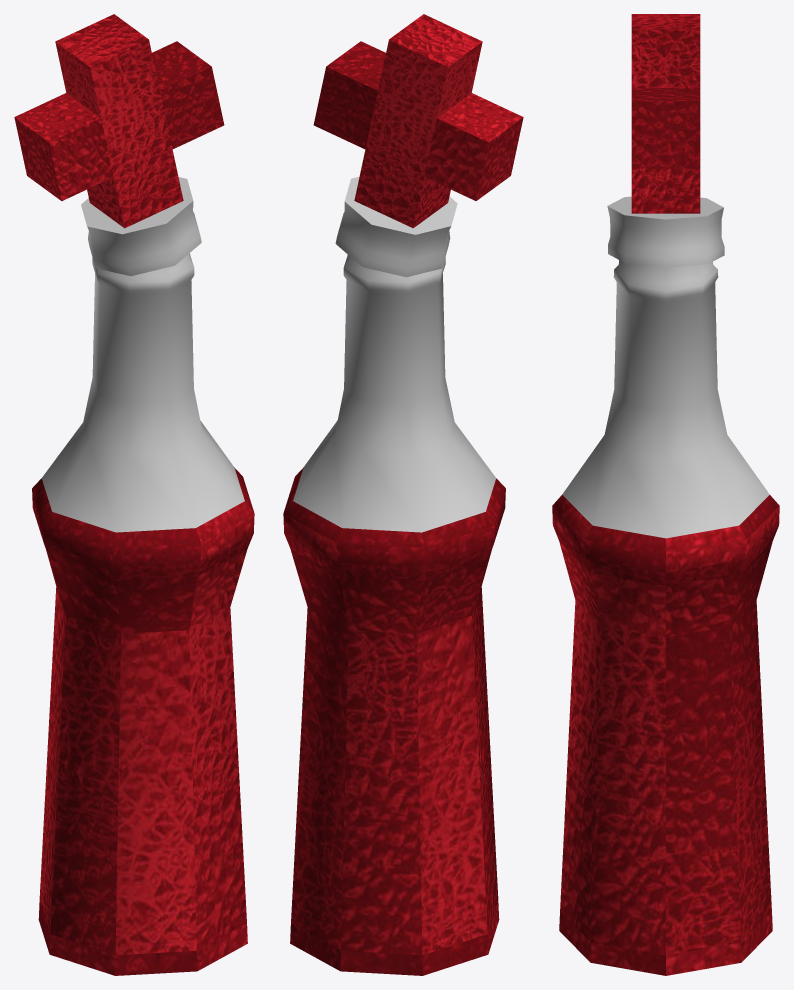
File: HealthBoost.obj
3 renders of one model, left to right at view 1: azimuth 30°, elevation 25°; view 2: azimuth 150°, elevation 25°; view 3: azimuth 270°, elevation 25°, orthographic.
Parts seen in each view (by area): view 1: Bottle; view 2: Bottle; view 3: Bottle.
Part boxes in pixels (x1,y1,x2,y2): Bottle: (14, 14, 254, 975); Bottle: (283, 14, 523, 975); Bottle: (552, 14, 779, 975).
Size of the model in its own units: 60.26 by 247 by 56.96.
